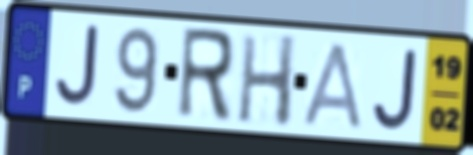9: (111, 24, 162, 116)
A: (300, 39, 365, 132)
H: (235, 32, 300, 131)
J: (370, 46, 420, 134), (52, 23, 101, 110)
R: (174, 25, 237, 127)
